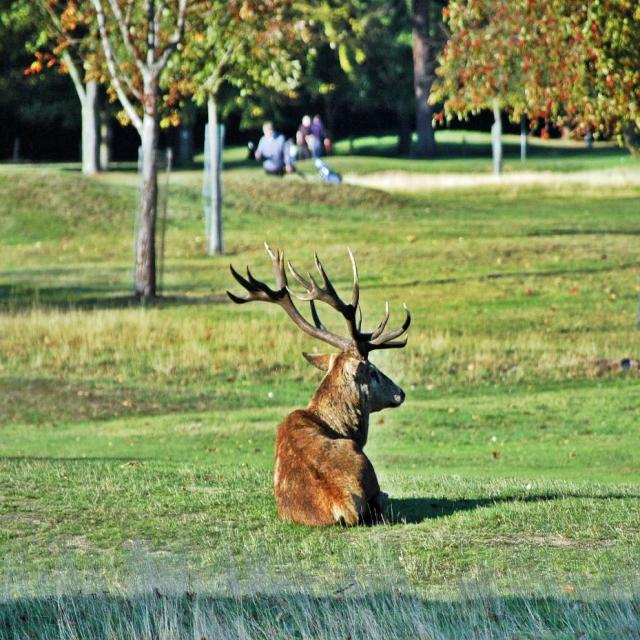Deer: (226, 241, 410, 523)
